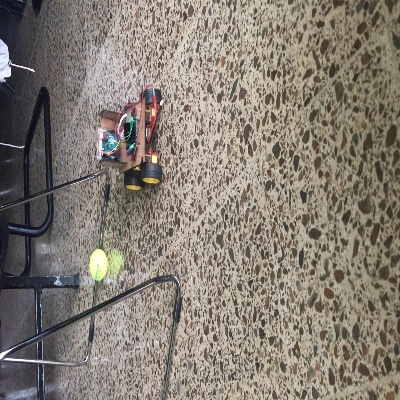Ball: (88, 248, 108, 281)
Robot: (97, 88, 161, 190)
